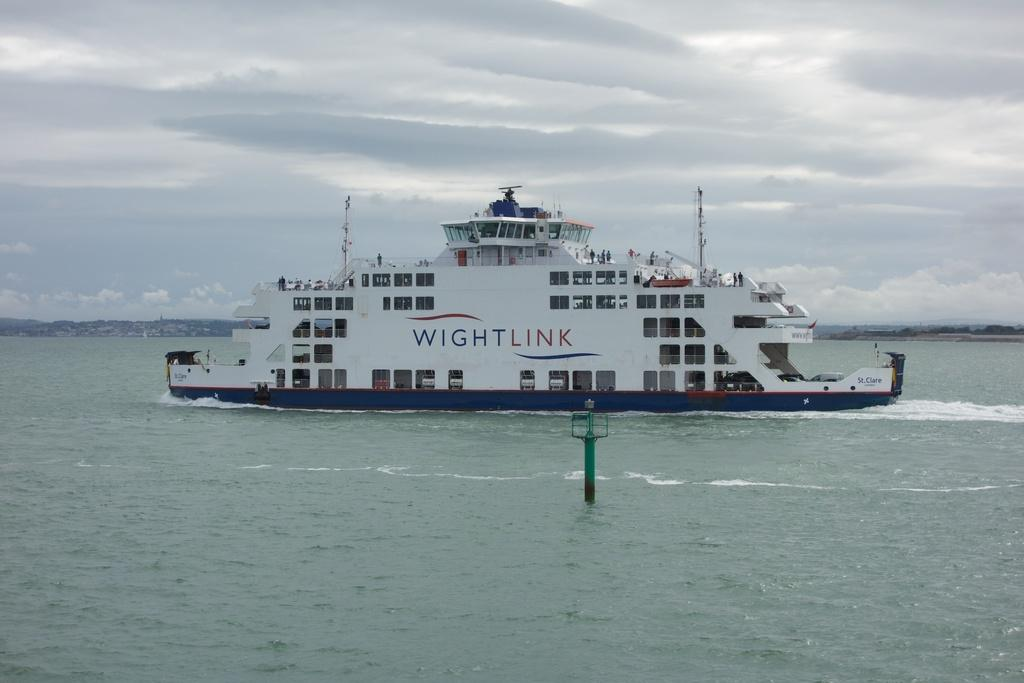PassengerShip: (153, 152, 915, 430)
